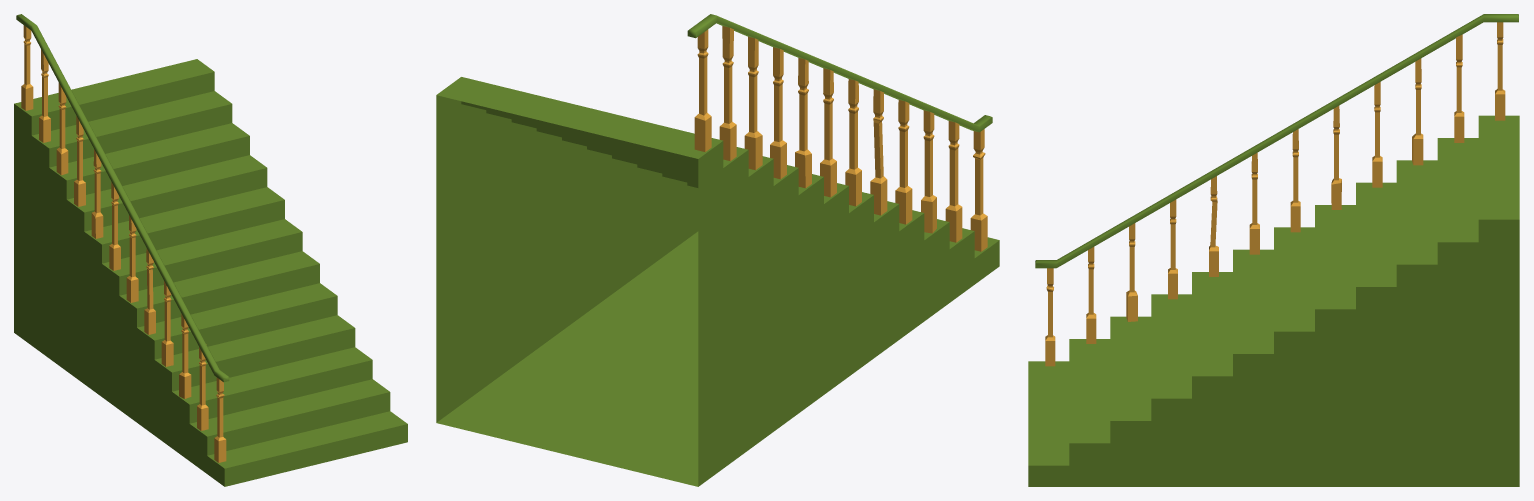
File: staircase.fbx
3 views of the same model, side by side, from view 1: azimuth 30°, elevation 25°; view 2: azimuth 150°, elevation 25°; view 3: azimuth 270°, elevation 25° (orthographic). The views are drawn at different scales.
Parts seen in each view (by area): view 1: Stair Case, Bannister; view 2: Stair Case, Bannister; view 3: Stair Case, Bannister.
Part boxes in pixels (bbox=[...]): Stair Case: bbox=[14, 59, 407, 486]; Bannister: bbox=[16, 14, 229, 462]; Stair Case: bbox=[436, 77, 999, 486]; Bannister: bbox=[687, 14, 992, 251]; Stair Case: bbox=[1028, 115, 1519, 486]; Bannister: bbox=[1035, 14, 1518, 366].
Size of the model in its own units: 400 by 797 by 663.
